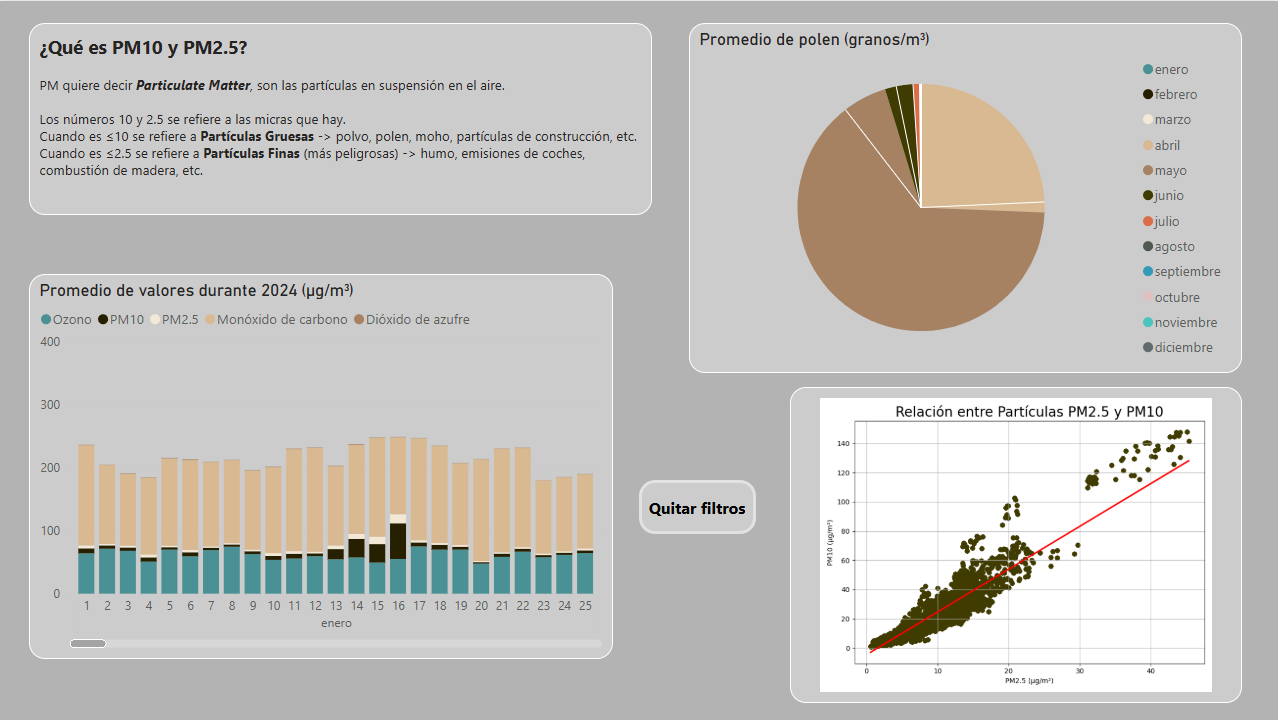

What the dashboard file says about the page in this screenshot:
{"tool":"powerbi","page":{"name":"Página 1","canvas":[1280,720],"ordinal":0},"visuals":[{"type":"textbox","box":[30,22.2,623.3,192.2],"z":0},{"type":"columnChart","title":"Promedio de valores durante 2024 (µg/m³)","fields":{"Category":["airevisDatos.fecha.Variación.Jerarquía de fechas.Mes","airevisDatos.fecha.Variación.Jerarquía de fechas.Día","airevisDatos.hora"],"Y":["Avg(airevisDatos.O₃ (µg/m³))","Avg(airevisDatos.PM10 (µg/m³))","Avg(airevisDatos.PM2.5 (µg/m³))","Avg(airevisDatos.CO (µg/m³))","Avg(airevisDatos.SO₂ (µg/m³))"]},"box":[30,273.3,584.4,384.4],"z":1000},{"type":"pieChart","title":"Promedio de polen (granos/m³)","fields":{"Y":["Avg(airevisDatos.Polen Olivos (granos/m³))","Avg(airevisDatos.Polen Hierba (granos/m³))"],"Category":["airevisDatos.fecha.Variación.Jerarquía de fechas.Mes"]},"box":[653.8,22.5,590,350],"z":2000},{"type":"pythonVisual","fields":{"Values":["airevisDatos.hora"]},"box":[791.1,385.6,452.2,316.7],"z":3000},{"type":"actionButton","box":[640,478.9,116.7,54.4],"z":4000}]}

Visuals, with their boxes in screenshot pixels (x1, y1, x2, y2), scaled from the page's 1280x720 canvas onto the 1278x720 screenshot:
textbox: rect(30, 22, 652, 214)
"Promedio de valores durante 2024 (µg/m³)" columnChart: rect(30, 273, 613, 658)
"Promedio de polen (granos/m³)" pieChart: rect(653, 22, 1242, 372)
pythonVisual - airevisDatos.hora: rect(790, 386, 1241, 702)
actionButton: rect(639, 479, 756, 533)
